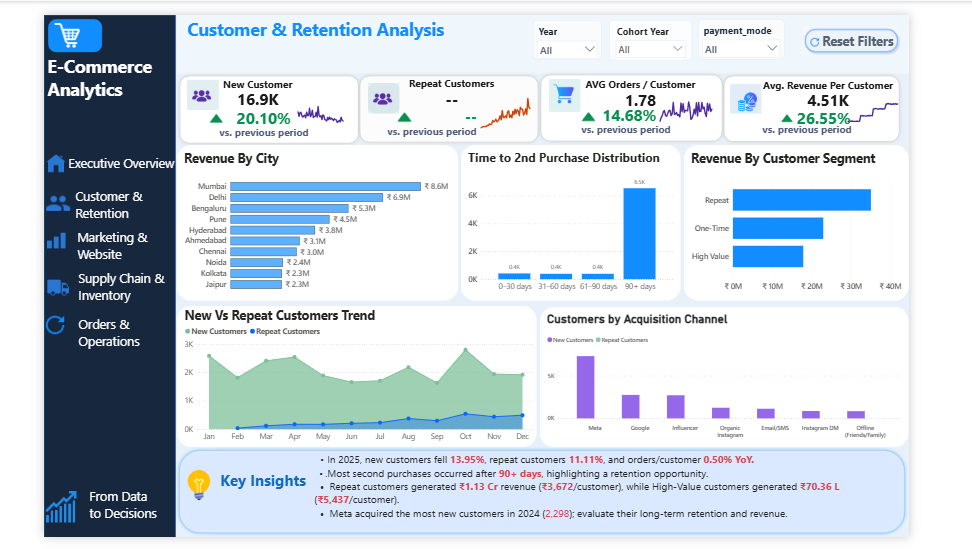

The page's visual inventory and layout, read from the dashboard file:
{"tool":"powerbi","page":{"name":"Page 2","canvas":[1840,1110],"ordinal":1},"visuals":[{"type":"shape","box":[0,0,280,1500],"z":0},{"type":"actionButton","box":[1612.2,23.3,210.3,62.1],"z":0,"group":"g1"},{"type":"shape","box":[1049.9,119.8,402.1,157.4],"z":0,"group":"g3"},{"type":"shape","box":[280.4,122,396.6,159.7],"z":0,"group":"g2"},{"type":"shape","box":[663.1,122,395.7,157.4],"z":0,"group":"g5"},{"type":"shape","box":[1439.1,122,389.5,156.2],"z":0,"group":"g4"},{"type":"shape","box":[8.2,8.2,115.6,71.1],"z":1000},{"type":"image","box":[1615.6,45.7,46.6,22.4],"z":1000,"group":"g1"},{"type":"cardVisual","title":"Repeat Customers","fields":{"Data":["Dax_Measure-2.Repeat Customers"]},"box":[745.3,129.9,241.1,137.6],"z":1000,"group":"g5"},{"type":"cardVisual","title":"AVG Orders / Customer","fields":{"Data":["Dax_Measure-2.Avg_Order_Per_Customer"]},"box":[1105.5,132.5,329.9,135.7],"z":1000,"group":"g3"},{"type":"cardVisual","title":"New Customer","fields":{"Data":["Dax_Measure-2.New Customers"]},"box":[338.4,132.8,233,133.3],"z":1000,"group":"g2"},{"type":"cardVisual","title":"Avg. Revenue Per Customer","fields":{"Data":["Dax_Measure-2.Avg Revenue per Customer"]},"box":[1510.1,133.7,319.6,134.9],"z":1000,"group":"g4"},{"type":"image","box":[8.9,17.8,82.2,53.3],"z":2000},{"type":"shape","box":[1076.4,136.1,67.1,69.6],"z":2000,"group":"g3"},{"type":"shape","box":[304.7,138.9,67.6,63.8],"z":2000,"group":"g2"},{"type":"shape","box":[687.6,144.6,67.5,65.4],"z":2000,"group":"g5"},{"type":"shape","box":[1460.7,148.6,66.7,63.4],"z":2000,"group":"g4"},{"type":"cardVisual","fields":{"Data":["Dax_Measure-2.Avg_Orders_per_Customer_Growth %"]},"box":[1143.9,170.8,189.4,79.9],"z":3000,"group":"g3"},{"type":"cardVisual","fields":{"Data":["Dax_Measure-2.New Customer YOY Growth %"]},"box":[356.5,178.5,196.2,76.7],"z":3000,"group":"g2"},{"type":"cardVisual","fields":{"Data":["Dax_Measure-2.Repeat customer Growth %"]},"box":[760.1,179.3,189.8,69.4],"z":3000,"group":"g5"},{"type":"cardVisual","fields":{"Data":["Dax_Measure-2.Avg_Revenue_per_Customer_YoY_Growth %"]},"box":[1587.1,189.5,134.7,55.1],"z":3000,"group":"g4"},{"type":"image","box":[2,296.1,47.1,41.2],"z":3000},{"type":"image","box":[1135.9,195.7,49,40.5],"z":4000,"group":"g3"},{"type":"image","box":[742.7,197.5,49,42.9],"z":4000,"group":"g5"},{"type":"image","box":[342.5,200.7,48,40.4],"z":4000,"group":"g2"},{"type":"image","box":[1555.4,203.6,51,34.7],"z":4000,"group":"g4"},{"type":"image","box":[1.9,372.2,55.6,57.4],"z":4000},{"type":"lineChart","fields":{"Y":["Dax_Measure-2.Repeat Customers"],"Category":["Dim_Date.Year Month"]},"box":[914,155.1,134,91.5],"z":5000,"group":"g5"},{"type":"lineChart","fields":{"Y":["Dax_Measure-2.Avg_Order_Per_Customer"],"Category":["Dim_Date.Year Month"]},"box":[1297.5,164.6,140.2,75],"z":5000,"group":"g3"},{"type":"lineChart","fields":{"Category":["Dim_Date.Year Month"],"Y":["Dax_Measure-2.Avg Revenue per Customer"]},"box":[1696.4,168.5,135.6,71.3],"z":5000,"group":"g4"},{"type":"lineChart","fields":{"Category":["Dim_Date.Year Month"],"Y":["Dax_Measure-2.New Customers"]},"box":[525.2,175.7,125.7,70.2],"z":5000,"group":"g2"},{"type":"image","box":[0,448.1,50,61.1],"z":5000},{"type":"image","box":[313.3,147.5,45.7,47.4],"z":6000,"group":"g2"},{"type":"image","box":[696.1,153.3,45.6,48.6],"z":6000,"group":"g5"},{"type":"image","box":[1.9,551.9,55.6,46.3],"z":6000},{"type":"textbox","box":[1524.8,224,228.6,42.8],"z":7000,"group":"g4"},{"type":"textbox","box":[1138.2,224.4,222.4,40.5],"z":7000,"group":"g3"},{"type":"textbox","box":[724.6,227.5,206.4,44.7],"z":7000,"group":"g5"},{"type":"textbox","box":[368.2,231.2,218.9,39.4],"z":7000,"group":"g2"},{"type":"image","box":[0,634.7,46.9,51],"z":7000},{"type":"image","box":[2,1011.8,66.7,66.7],"z":8000},{"type":"textbox","box":[2,79.6,277.6,110.2],"z":9000},{"type":"textbox","box":[46,292,254,70],"z":10000},{"type":"textbox","box":[62,362,238,86],"z":11000},{"type":"textbox","box":[66.7,448.1,233.3,88.9],"z":12000},{"type":"textbox","box":[67.3,536.7,232.7,83.7],"z":13000},{"type":"textbox","box":[67.3,634.7,232.7,89.8],"z":14000},{"type":"shape","box":[282.7,0,1557.7,125],"z":15000},{"type":"textbox","box":[300,0,584,72],"z":16000},{"type":"group","id":"g1","title":"Reset Button","box":[1612.2,23.3,211.1,61.1],"z":17000},{"type":"group","id":"g2","title":"Total customers KPI","box":[280.4,122,396.2,159.6],"z":18000},{"type":"group","id":"g3","title":"Total customers KPI","box":[1049.9,119.8,402.1,157.4],"z":19000,"group":"g7"},{"type":"group","id":"g4","title":"Total customers KPI","box":[1439.1,122,392.8,156.2],"z":19000},{"type":"group","id":"g5","title":"Total customers KPI","box":[663.1,122,395.7,157.4],"z":20000},{"type":"image","box":[1081.6,140.2,49,54.7],"z":20000,"group":"g7"},{"type":"lineChart","title":"New Vs Repeat Customers Trend","fields":{"Category":["Dim_Date.Month"],"Y":["Dax_Measure-2.New Customers","Dax_Measure-2.Repeat Customers"]},"box":[283.7,618.4,765.3,300],"z":21000},{"type":"clusteredBarChart","title":"Revenue By City","fields":{"Category":["public order_clean.shipping_city"],"Y":["Dax_Measure.Total_Revenue"]},"box":[283.7,277.6,598,330.6],"z":22000},{"type":"clusteredColumnChart","title":"Customers by Acquisition Channel","fields":{"Category":["public customers_clean.acquisition_channel"],"Y":["Dax_Measure-2.New Customers","Dax_Measure-2.Repeat Customers"]},"box":[1055.1,620.4,783.7,298],"z":23000},{"type":"clusteredBarChart","title":"Revenue By Customer Segment","fields":{"Y":["Dax_Measure.Total_Revenue"],"Category":["public customers_clean.Customer Segment"]},"box":[1361.2,277.6,477.6,330.6],"z":24000},{"type":"group","id":"g6","title":"Group 1","box":[986.1,420.5,208.9,115.5],"z":25000},{"type":"clusteredColumnChart","title":"Time to 2nd Purchase Distribution","fields":{"Category":["public customers_clean.Time to 2nd Purchase Bucket"],"Y":["Count(public customers_clean.customer_id)"]},"box":[887.8,277.6,467.3,330.6],"z":26000},{"type":"slicer","fields":{"Values":["public customers_clean.first_order_date.Variation.Date Hierarchy.Year"]},"box":[1201.8,10.7,176.8,85.7],"z":27000},{"type":"cardVisual","fields":{"Data":["Dax_Measure.Total_Revenue"]},"box":[986.1,420.5,208.9,115.5],"z":27001,"group":"g6"},{"type":"slicer","fields":{"Values":["public order_clean.payment_mode"]},"box":[1391.1,8.9,183.9,85.7],"z":28000},{"type":"slicer","fields":{"Values":["Dim_Date.Year"]},"box":[1041.1,10.7,146.4,83.9],"z":29000},{"type":"group","id":"g7","title":"Group 2","box":[1049.9,119.8,402.1,157.4],"z":30000},{"type":"image","box":[1463.5,161.5,65.4,46.2],"z":31000},{"type":"shape","box":[281.6,918.4,1557.1,189.8],"z":32000},{"type":"image","box":[287.5,962.5,85.7,76.8],"z":33000},{"type":"textbox","box":[369.6,962.5,219.6,64.3],"z":34000},{"type":"textbox","box":[569.4,918.4,1259.2,189.8],"z":35000},{"type":"textbox","box":[92.2,1000,162.7,90.2],"z":36000}]}

Visuals, with their boxes on the page's 1840x1110 design canvas (x1, y1, x2, y2). These are canvas units, not pixel positions in the 972x549 screenshot, which may show the page scaled, cropped or inside an application window:
shape: BBox(0, 0, 280, 1500)
actionButton: BBox(1612, 23, 1822, 85)
shape: BBox(1050, 120, 1452, 277)
shape: BBox(280, 122, 677, 282)
shape: BBox(663, 122, 1059, 279)
shape: BBox(1439, 122, 1829, 278)
shape: BBox(8, 8, 124, 79)
image: BBox(1616, 46, 1662, 68)
"Repeat Customers" cardVisual: BBox(745, 130, 986, 268)
"AVG Orders / Customer" cardVisual: BBox(1106, 132, 1435, 268)
"New Customer" cardVisual: BBox(338, 133, 571, 266)
"Avg. Revenue Per Customer" cardVisual: BBox(1510, 134, 1830, 269)
image: BBox(9, 18, 91, 71)
shape: BBox(1076, 136, 1144, 206)
shape: BBox(305, 139, 372, 203)
shape: BBox(688, 145, 755, 210)
shape: BBox(1461, 149, 1527, 212)
cardVisual - Dax_Measure-2.Avg_Orders_per_Customer_Growth %: BBox(1144, 171, 1333, 251)
cardVisual - Dax_Measure-2.New Customer YOY Growth %: BBox(356, 178, 553, 255)
cardVisual - Dax_Measure-2.Repeat customer Growth %: BBox(760, 179, 950, 249)
cardVisual - Dax_Measure-2.Avg_Revenue_per_Customer_YoY_Growth %: BBox(1587, 190, 1722, 245)
image: BBox(2, 296, 49, 337)
image: BBox(1136, 196, 1185, 236)
image: BBox(743, 198, 792, 240)
image: BBox(342, 201, 390, 241)
image: BBox(1555, 204, 1606, 238)
image: BBox(2, 372, 58, 430)
lineChart - Dax_Measure-2.Repeat Customers x Dim_Date.Year Month: BBox(914, 155, 1048, 247)
lineChart - Dax_Measure-2.Avg_Order_Per_Customer x Dim_Date.Year Month: BBox(1298, 165, 1438, 240)
lineChart - Dim_Date.Year Month x Dax_Measure-2.Avg Revenue per Customer: BBox(1696, 168, 1832, 240)
lineChart - Dim_Date.Year Month x Dax_Measure-2.New Customers: BBox(525, 176, 651, 246)
image: BBox(0, 448, 50, 509)
image: BBox(313, 148, 359, 195)
image: BBox(696, 153, 742, 202)
image: BBox(2, 552, 58, 598)
textbox: BBox(1525, 224, 1753, 267)
textbox: BBox(1138, 224, 1361, 265)
textbox: BBox(725, 228, 931, 272)
textbox: BBox(368, 231, 587, 271)
image: BBox(0, 635, 47, 686)
image: BBox(2, 1012, 69, 1078)
textbox: BBox(2, 80, 280, 190)
textbox: BBox(46, 292, 300, 362)
textbox: BBox(62, 362, 300, 448)
textbox: BBox(67, 448, 300, 537)
textbox: BBox(67, 537, 300, 620)
textbox: BBox(67, 635, 300, 724)
shape: BBox(283, 0, 1840, 125)
textbox: BBox(300, 0, 884, 72)
"Reset Button" group: BBox(1612, 23, 1823, 84)
"Total customers KPI" group: BBox(280, 122, 677, 282)
"Total customers KPI" group: BBox(1050, 120, 1452, 277)
"Total customers KPI" group: BBox(1439, 122, 1832, 278)
"Total customers KPI" group: BBox(663, 122, 1059, 279)
image: BBox(1082, 140, 1131, 195)
"New Vs Repeat Customers Trend" lineChart: BBox(284, 618, 1049, 918)
"Revenue By City" clusteredBarChart: BBox(284, 278, 882, 608)
"Customers by Acquisition Channel" clusteredColumnChart: BBox(1055, 620, 1839, 918)
"Revenue By Customer Segment" clusteredBarChart: BBox(1361, 278, 1839, 608)
"Group 1" group: BBox(986, 420, 1195, 536)
"Time to 2nd Purchase Distribution" clusteredColumnChart: BBox(888, 278, 1355, 608)
slicer - public customers_clean.first_order_date.Variation.Date Hierarchy.Year: BBox(1202, 11, 1379, 96)
cardVisual - Dax_Measure.Total_Revenue: BBox(986, 420, 1195, 536)
slicer - public order_clean.payment_mode: BBox(1391, 9, 1575, 95)
slicer - Dim_Date.Year: BBox(1041, 11, 1188, 95)
"Group 2" group: BBox(1050, 120, 1452, 277)
image: BBox(1464, 162, 1529, 208)
shape: BBox(282, 918, 1839, 1108)
image: BBox(288, 962, 373, 1039)
textbox: BBox(370, 962, 589, 1027)
textbox: BBox(569, 918, 1829, 1108)
textbox: BBox(92, 1000, 255, 1090)
